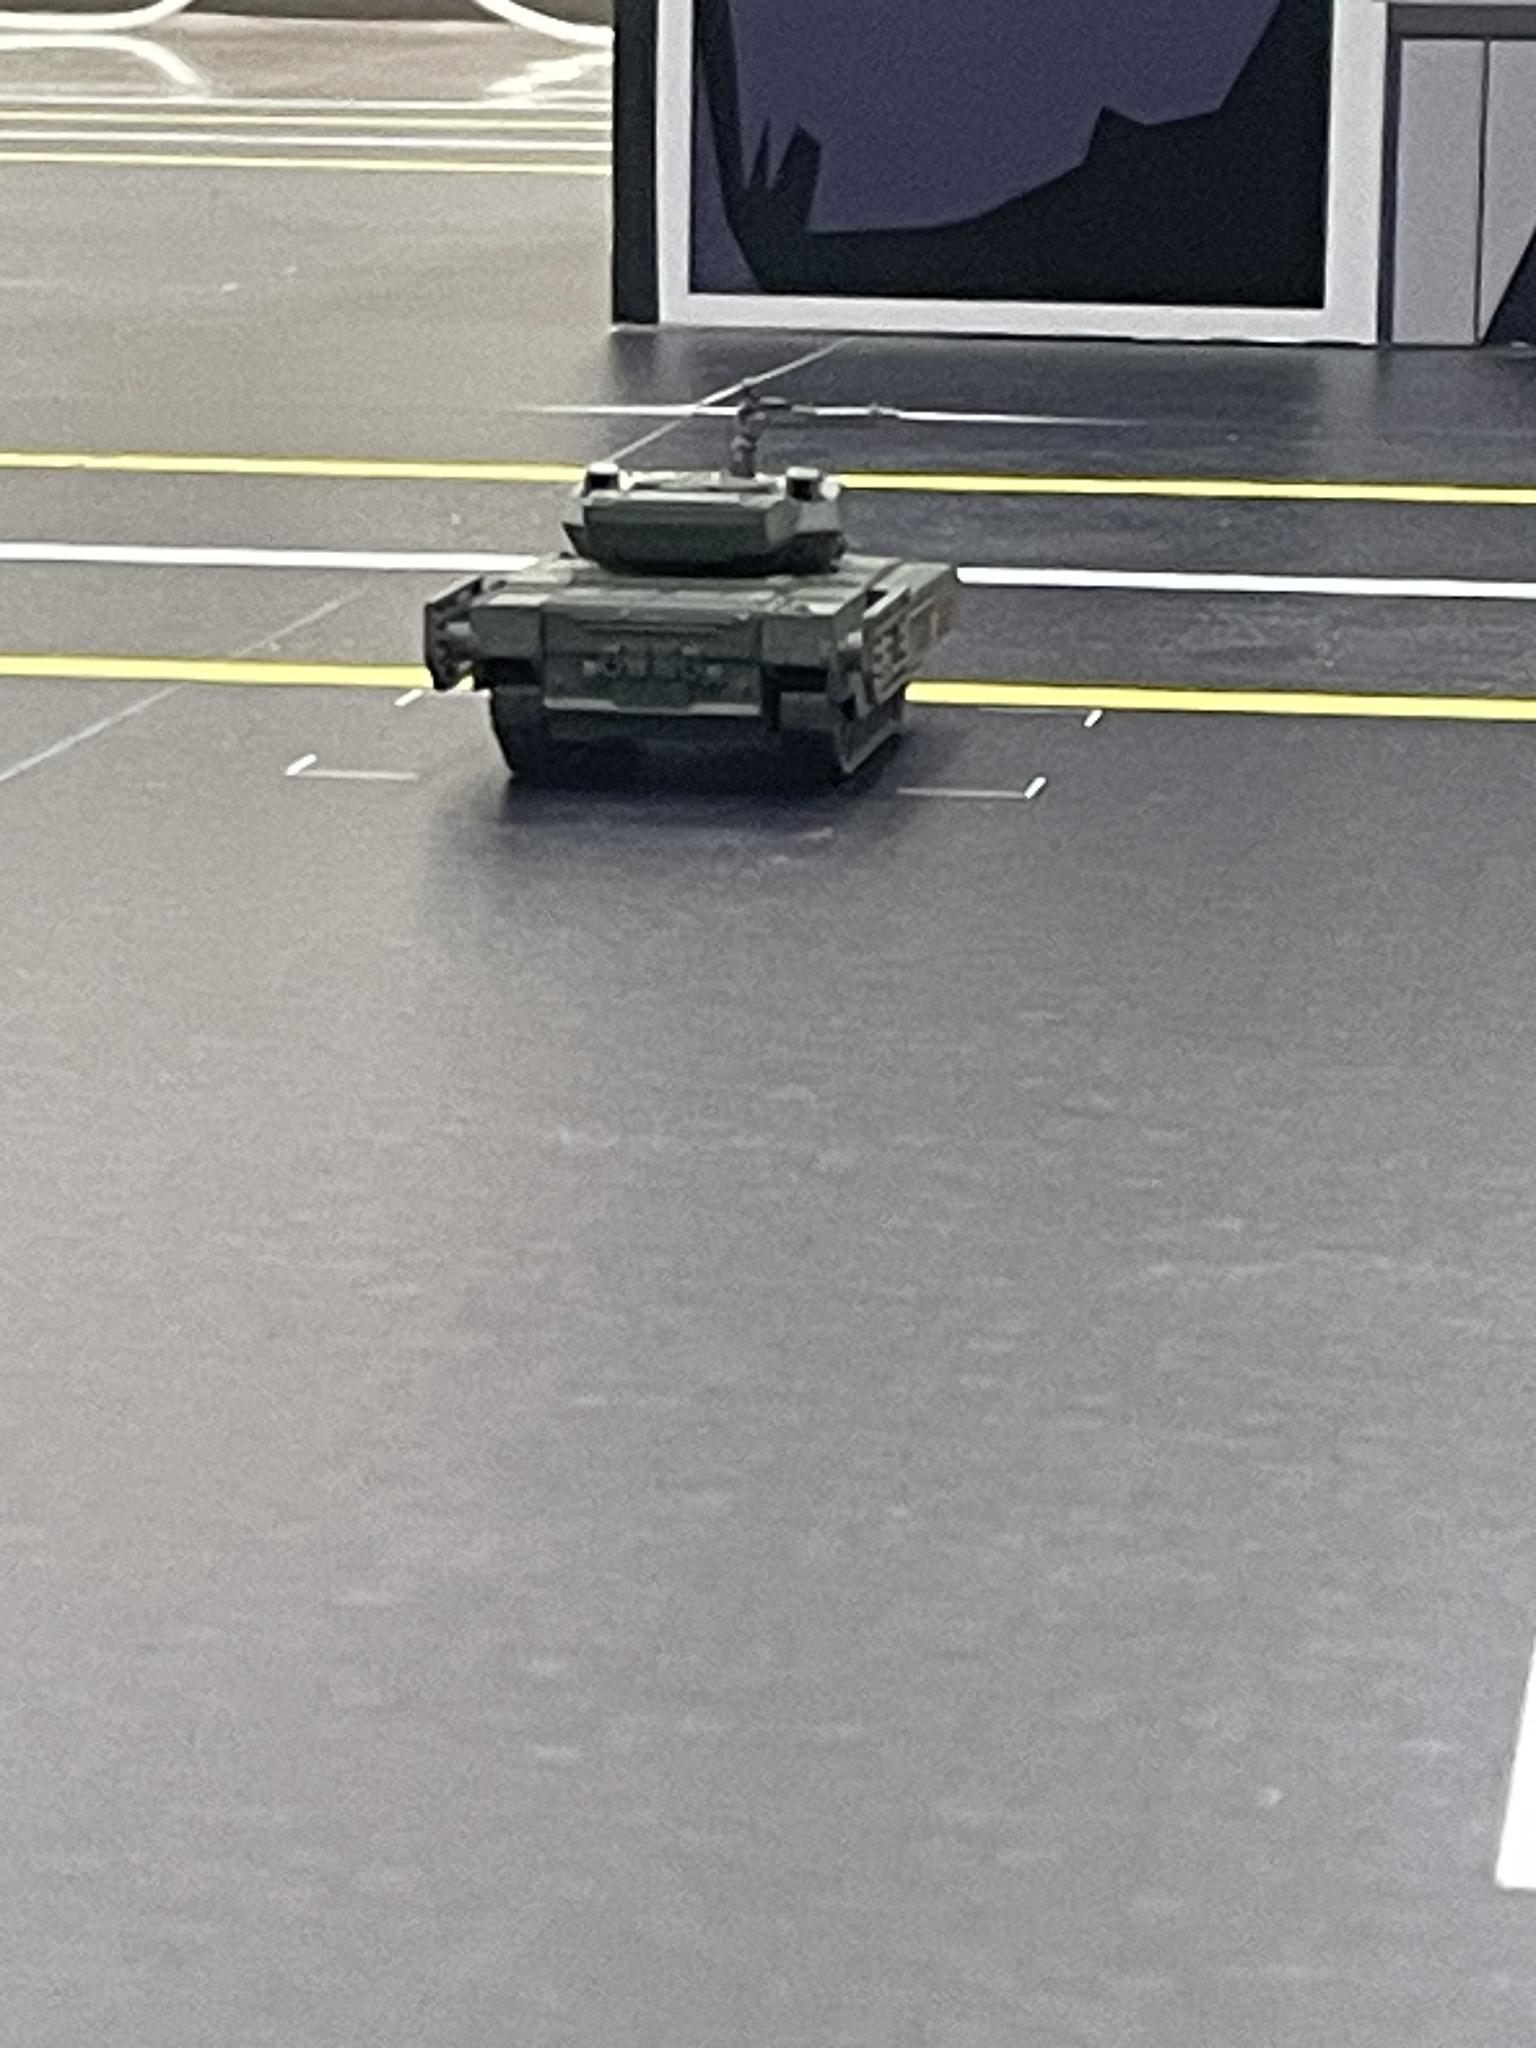Tank: (421, 389, 978, 839)
